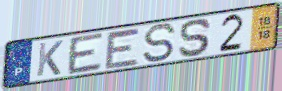2: (219, 12, 247, 54)
E: (66, 31, 106, 77), (103, 27, 143, 71)
K: (35, 39, 65, 78)
S: (141, 22, 178, 64), (177, 17, 213, 58)
